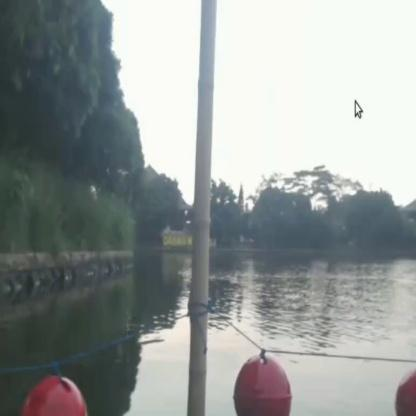red_buoy: (235, 352, 295, 415), (22, 374, 96, 408), (390, 372, 416, 415)
